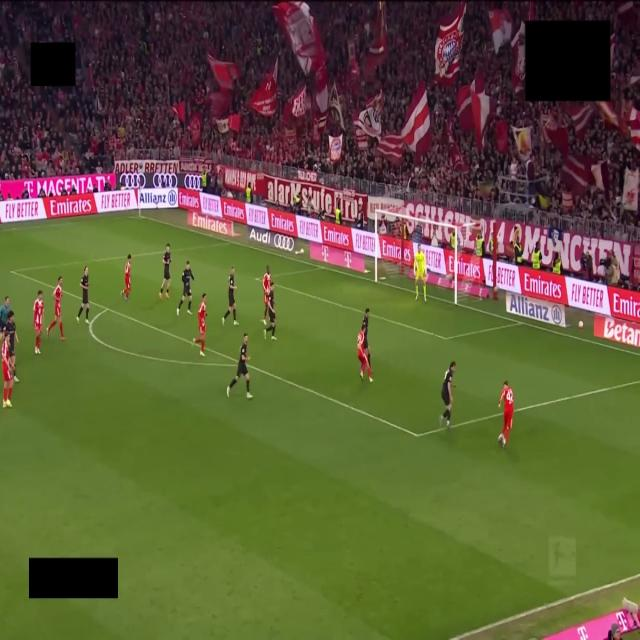player: (227, 334, 252, 399), (47, 277, 64, 340), (440, 361, 455, 426), (222, 267, 238, 326), (499, 381, 513, 447), (177, 261, 194, 315), (5, 312, 18, 382), (2, 335, 13, 407), (194, 294, 206, 356), (358, 331, 372, 382), (77, 266, 89, 324), (264, 282, 276, 340), (159, 244, 171, 299), (414, 246, 426, 301), (33, 290, 43, 354), (361, 308, 370, 365), (263, 266, 271, 325), (121, 255, 131, 301)
referee: (0, 296, 10, 333)
